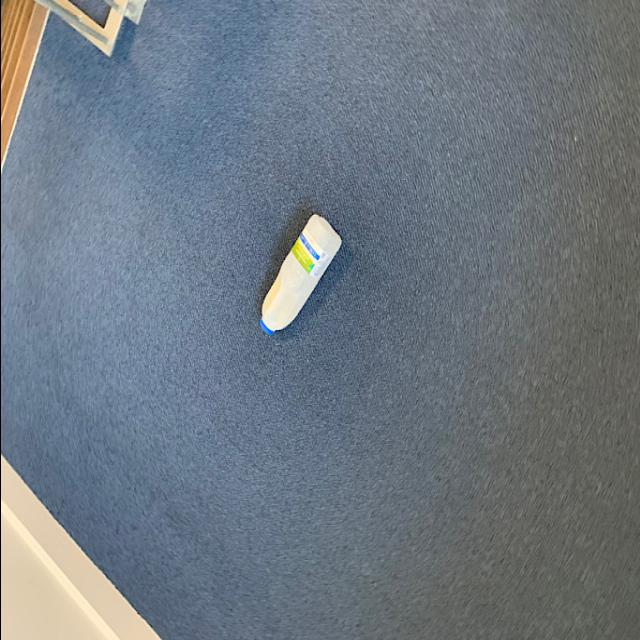HDPEM: (254, 212, 343, 344)
